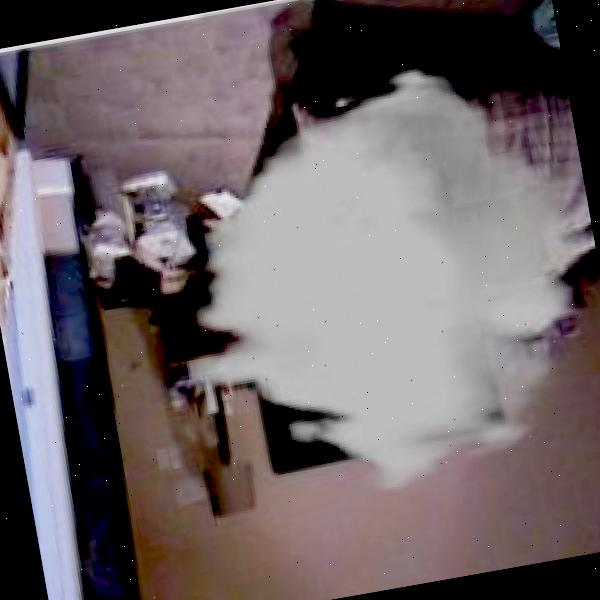smoke: (141, 41, 600, 524)
